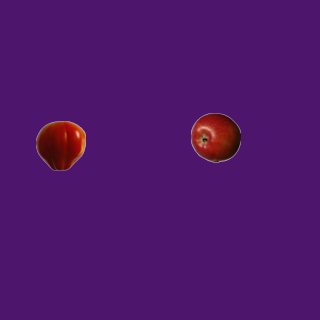Apple Braeburn: (190, 112, 240, 162)
Tomato 1: (35, 120, 85, 170)
